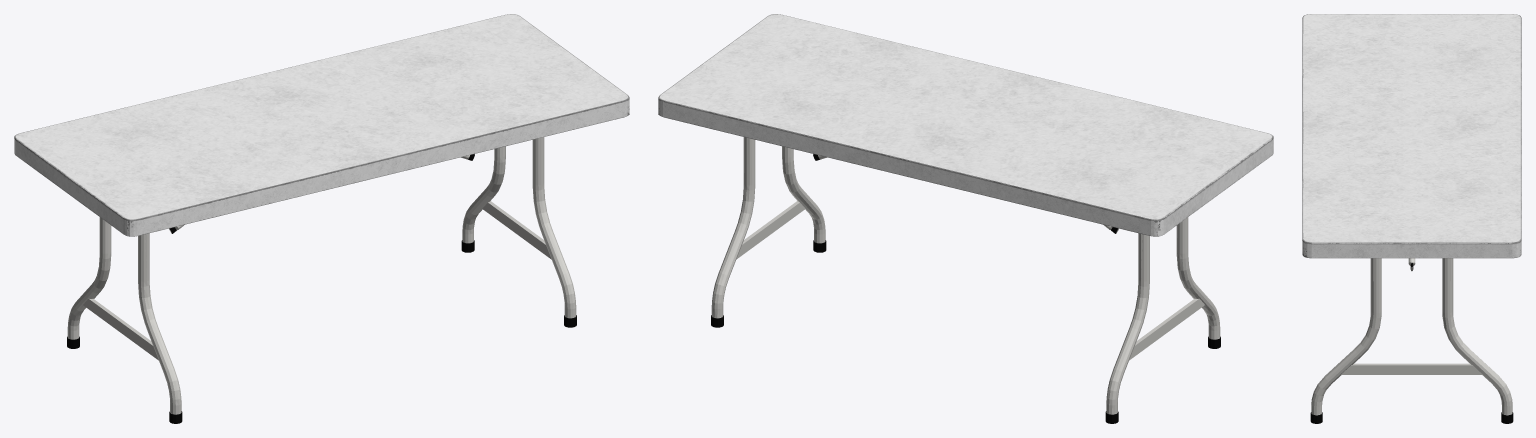
File: table.glb
3 views of the same model, side by side, from view 1: azimuth 30°, elevation 25°; view 2: azimuth 150°, elevation 25°; view 3: azimuth 270°, elevation 25° (orthographic). The views are drawn at different scales.
Size of the model in its own units: 1.95 by 0.8055 by 0.7876.
Materials: 1 (1 with a texture image).
